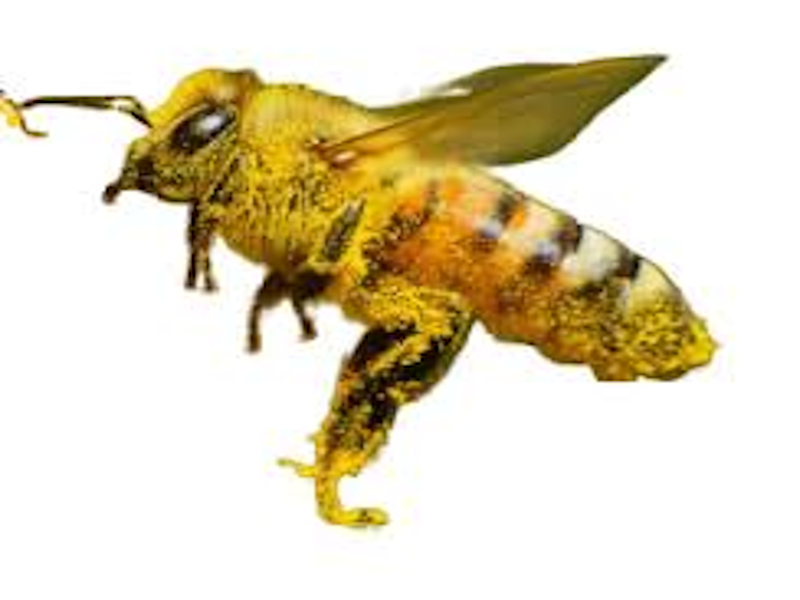abeja: (5, 24, 751, 550)
